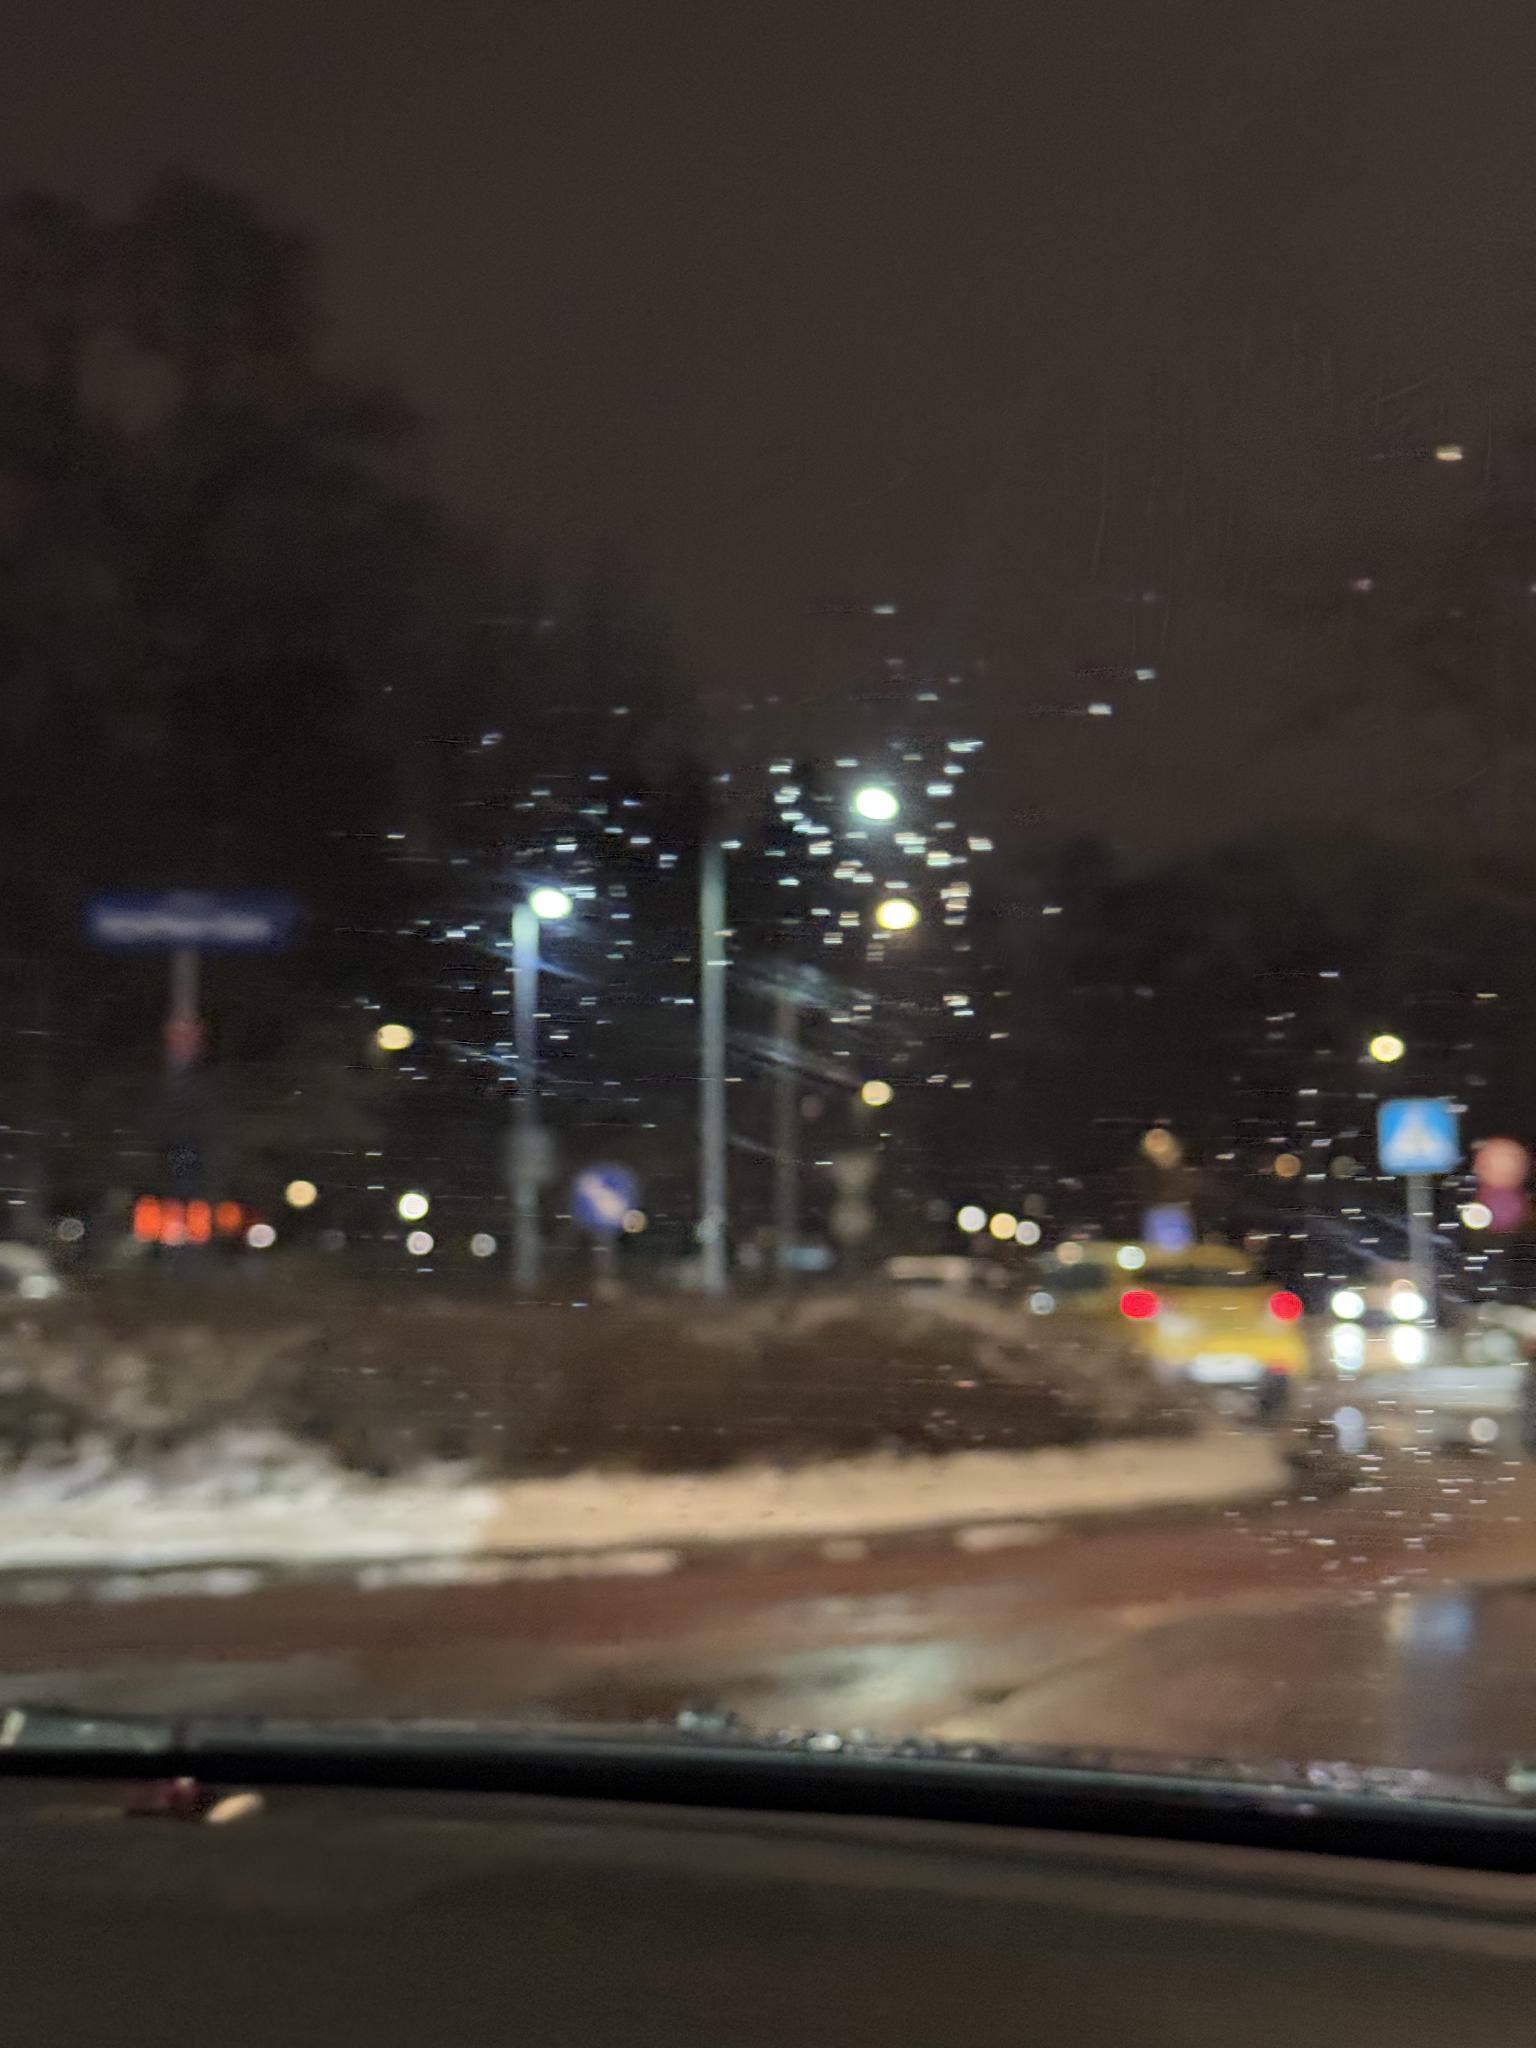information: (1375, 1098, 1457, 1176)
